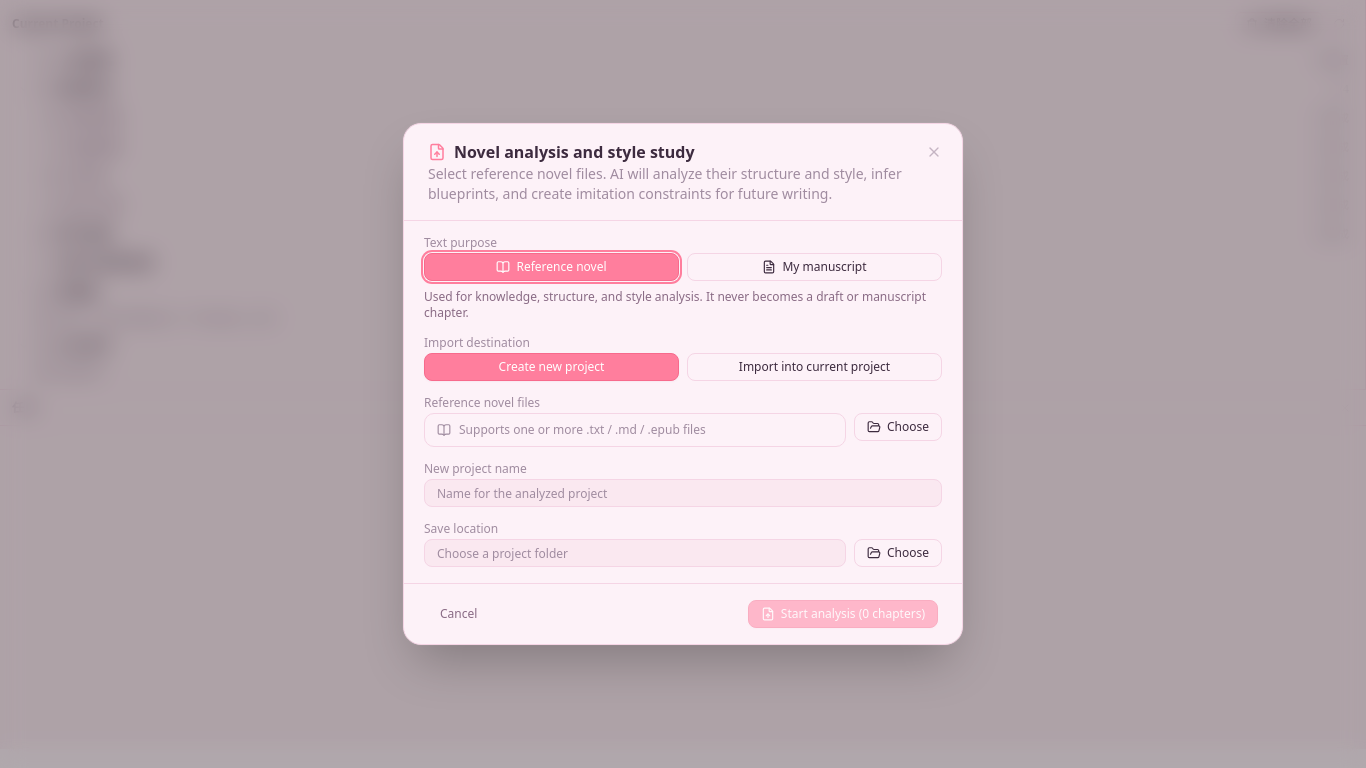
it: current-project reference import › shows the merged new-import inspection in English without a renderer grant step
The image size is (1366, 768).
Click the button with test id "import-target-current": (814, 367) [687,353,942,381]
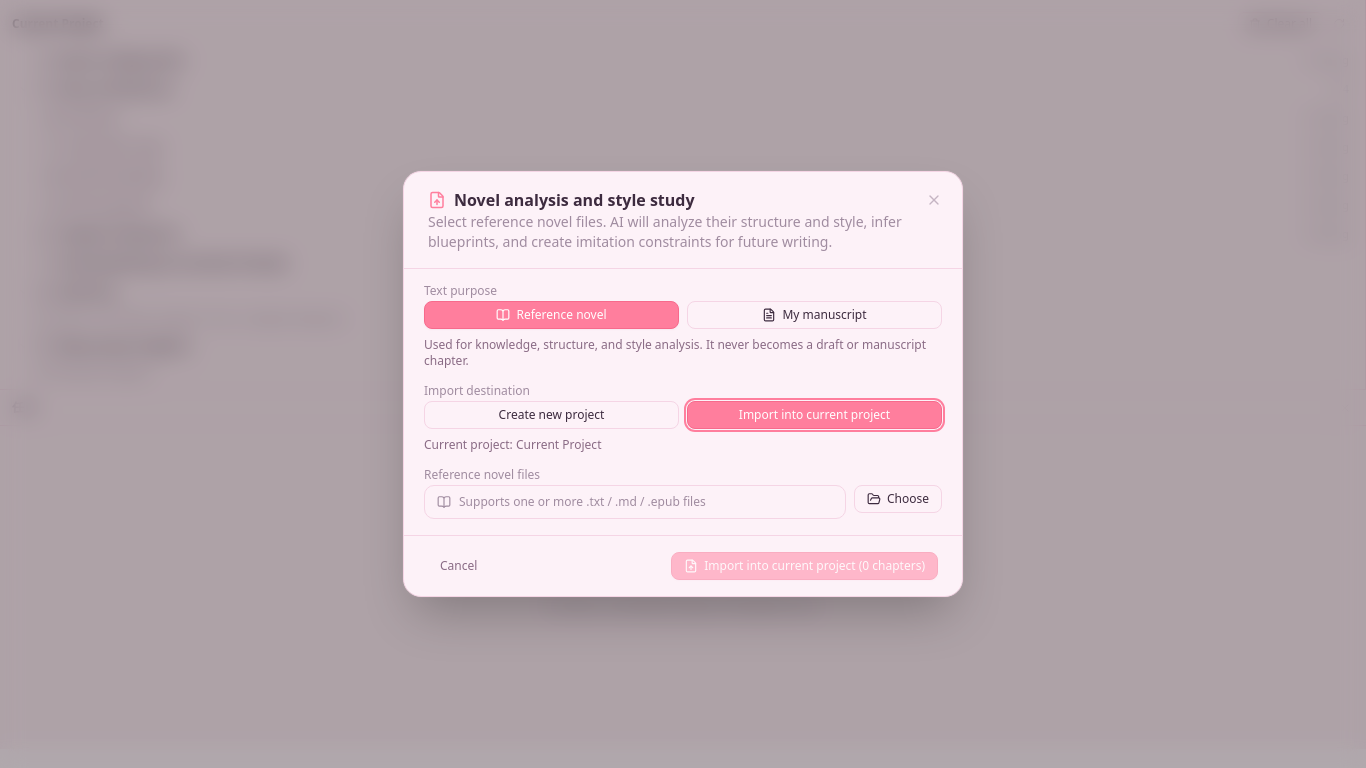
Click the button "Choose": (898, 499) [854,485,942,513]
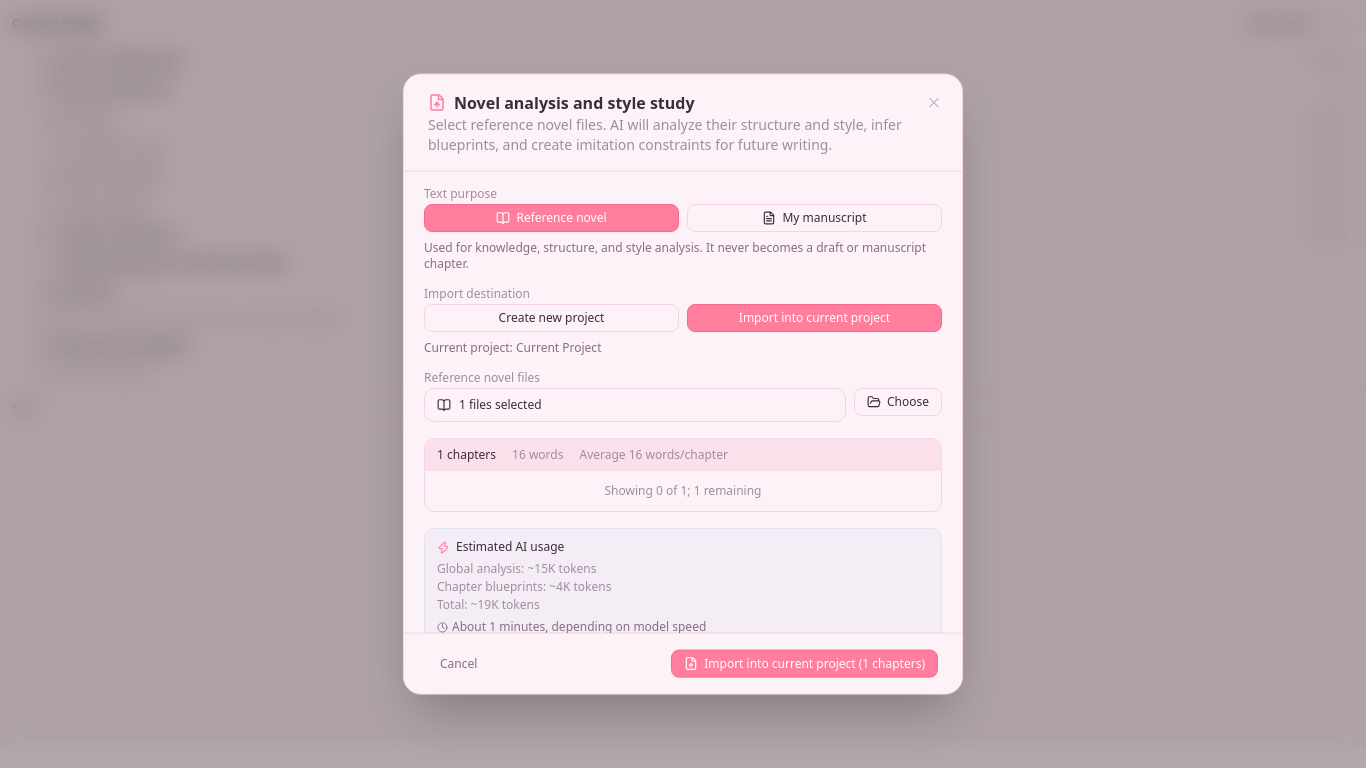
Check: the text "1 files selected" is shown, box [424,388,846,422]
Check: the text "1 chapters" is shown, box [437,447,496,463]
